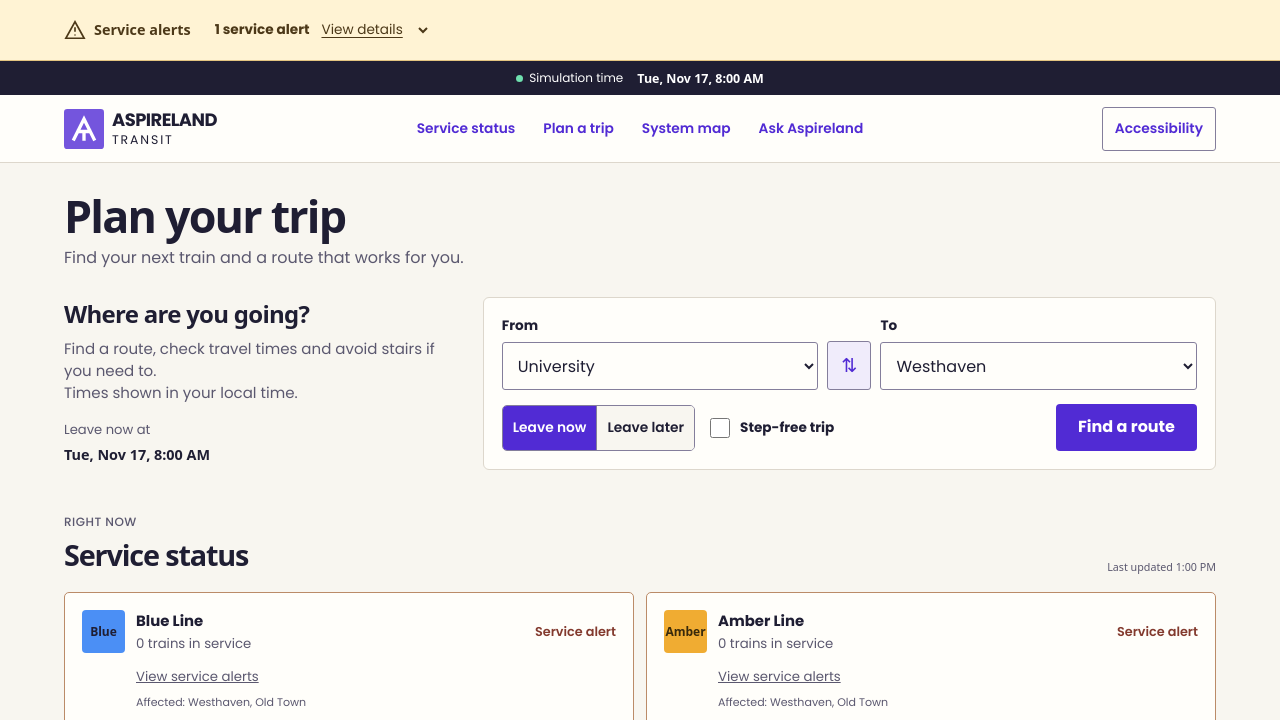
puts active service alerts above the home header without a duplicate lower summary
Expected: the text "1 service alert" is shown, [215, 20, 310, 40]
Expected: the text "Leave now at" is shown, [64, 420, 150, 439]
Click the button "Leave later" at (646, 428), box [597, 406, 694, 450]
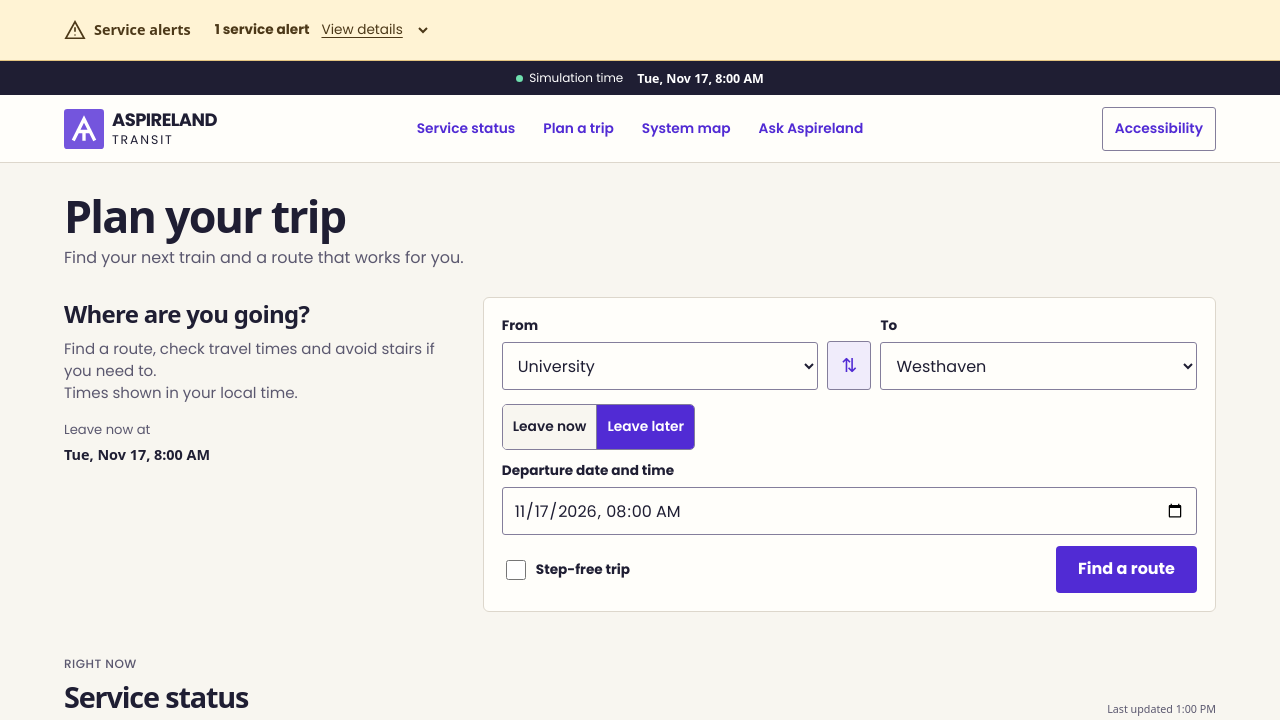
Expected: the field labelled "Departure date and time" is shown, [502, 488, 1197, 536]
